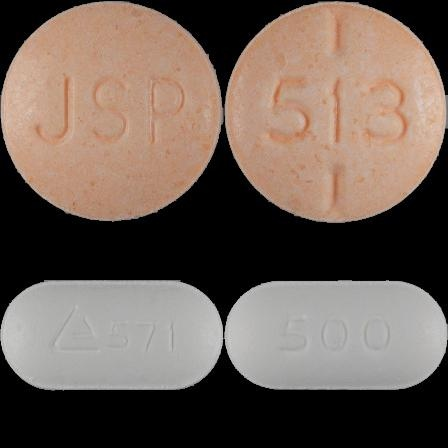10544-247: (0, 0, 224, 224)
